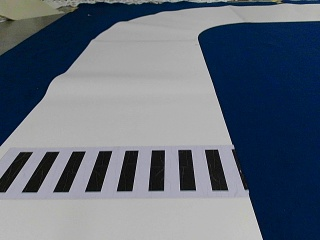crosswalk: (0, 150, 243, 193)
